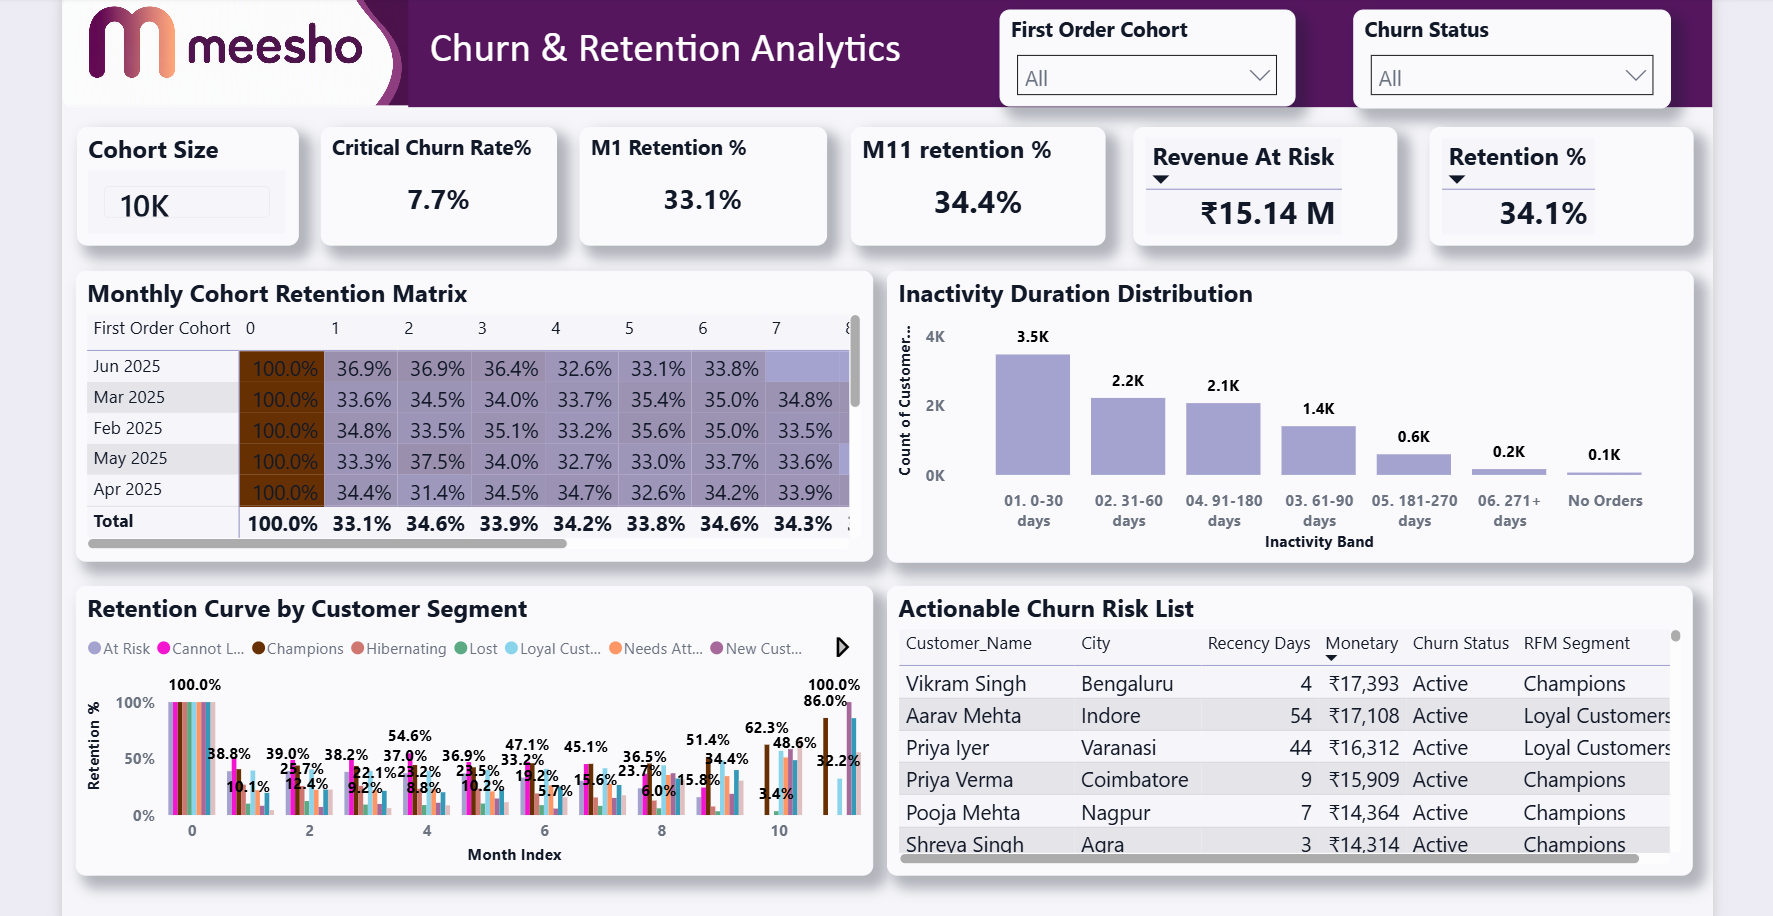

The dashboard page shown, as its layout file describes it:
{"tool":"powerbi","page":{"name":"Churn & retention Analytics","canvas":[1280,720],"ordinal":5},"visuals":[{"type":"image","box":[0,0,280.5,85.4],"z":0},{"type":"shape","box":[268.7,0,1011.3,85.4],"z":1000},{"type":"textbox","box":[280.4,14.4,402.7,55.1],"z":2000},{"type":"slicer","title":"First Order Cohort","fields":{"Values":["meesho_customers.First Order Cohort"]},"box":[727.2,10.1,229.4,75],"z":3000},{"type":"slicer","title":"Churn Status","fields":{"Values":["meesho_customers.Churn Status"]},"box":[1001.3,10.1,246.7,76.5],"z":4000},{"type":"cardVisual","title":"Cohort Size","fields":{"Data":["Metrics.Cohort Size"]},"box":[11.5,101,171.7,92.3],"z":5000},{"type":"card","title":"Critical Churn Rate%","fields":{"Values":["Metrics.Critical Churn Rate %"]},"box":[200.5,101,183.2,92.3],"z":6000},{"type":"card","title":"M1 Retention %","fields":{"Values":["Metrics.M1 Retention %"]},"box":[401.1,101,191.9,92.3],"z":7000},{"type":"card","title":"M11 retention %","fields":{"Values":["Metrics.M11 Retention %"]},"box":[611.7,101,197.7,92.3],"z":8000},{"type":"tableEx","title":"Retained ","fields":{"Values":["Metrics.Retention %"]},"box":[1060.4,101,204.9,92.3],"z":9000},{"type":"tableEx","title":"Revenue At Risk","fields":{"Values":["Metrics.Revenue At Risk"]},"box":[831,101,204.9,92.3],"z":10000},{"type":"pivotTable","title":"Monthly Cohort Retention Matrix","fields":{"Rows":["meesho_customers.First Order Cohort"],"Values":["Metrics.Retention %"],"Columns":["Cohort Month.Month Index"]},"box":[10.8,212,618.1,225.3],"z":11000},{"type":"clusteredColumnChart","title":"Inactivity Duration Distribution","fields":{"Category":["meesho_customers.Inactivity Band"],"Y":["CountNonNull(meesho_customers.Customer_ID)"]},"box":[639.8,212,625.3,226.5],"z":12000},{"type":"clusteredColumnChart","title":"Retention Curve by Customer Segment","fields":{"Y":["Metrics.Retention %"],"Category":["Cohort Month.Month Index"],"Series":["meesho_customers.RFM Segment"]},"box":[11,457,618,225],"z":13000},{"type":"tableEx","title":"Actionable Churn Risk List","fields":{"Values":["meesho_customers.Customer_Name","meesho_customers.City","meesho_customers.Recency Days","meesho_customers.Monetary","meesho_customers.Churn Status","meesho_customers.RFM Segment"]},"box":[640,457,625,225],"z":14000}]}

Visuals, with their boxes on the page's 1280x720 design canvas (x1, y1, x2, y2). These are canvas units, not pixel positions in the 1773x916 screenshot, which may show the page scaled, cropped or inside an application window:
image: bbox(0, 0, 280, 85)
shape: bbox(269, 0, 1280, 85)
textbox: bbox(280, 14, 683, 70)
"First Order Cohort" slicer: bbox(727, 10, 957, 85)
"Churn Status" slicer: bbox(1001, 10, 1248, 87)
"Cohort Size" cardVisual: bbox(12, 101, 183, 193)
"Critical Churn Rate%" card: bbox(200, 101, 384, 193)
"M1 Retention %" card: bbox(401, 101, 593, 193)
"M11 retention %" card: bbox(612, 101, 809, 193)
"Retained " tableEx: bbox(1060, 101, 1265, 193)
"Revenue At Risk" tableEx: bbox(831, 101, 1036, 193)
"Monthly Cohort Retention Matrix" pivotTable: bbox(11, 212, 629, 437)
"Inactivity Duration Distribution" clusteredColumnChart: bbox(640, 212, 1265, 438)
"Retention Curve by Customer Segment" clusteredColumnChart: bbox(11, 457, 629, 682)
"Actionable Churn Risk List" tableEx: bbox(640, 457, 1265, 682)
